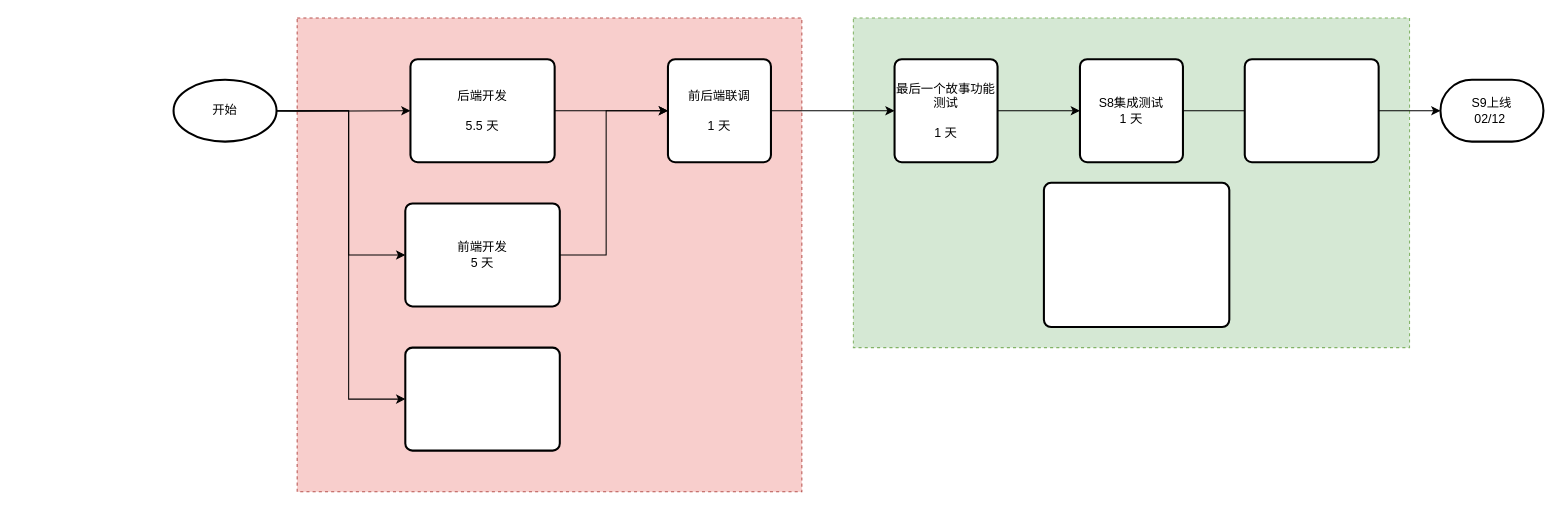
This 1561x510 diagram has some shape labels left out. The box of each missing label's shape, as (x1, y1, x2, y2) in pixels:
S9集成测试范围 人工审核（详情，列表） 结果（详情，列表） 批量导出 本品管理，竞品管理: (1042, 181, 1230, 328)
UAT 测试 测试，产品 1 天: (1243, 58, 1379, 163)
前端调研 4 天: (404, 346, 560, 451)
